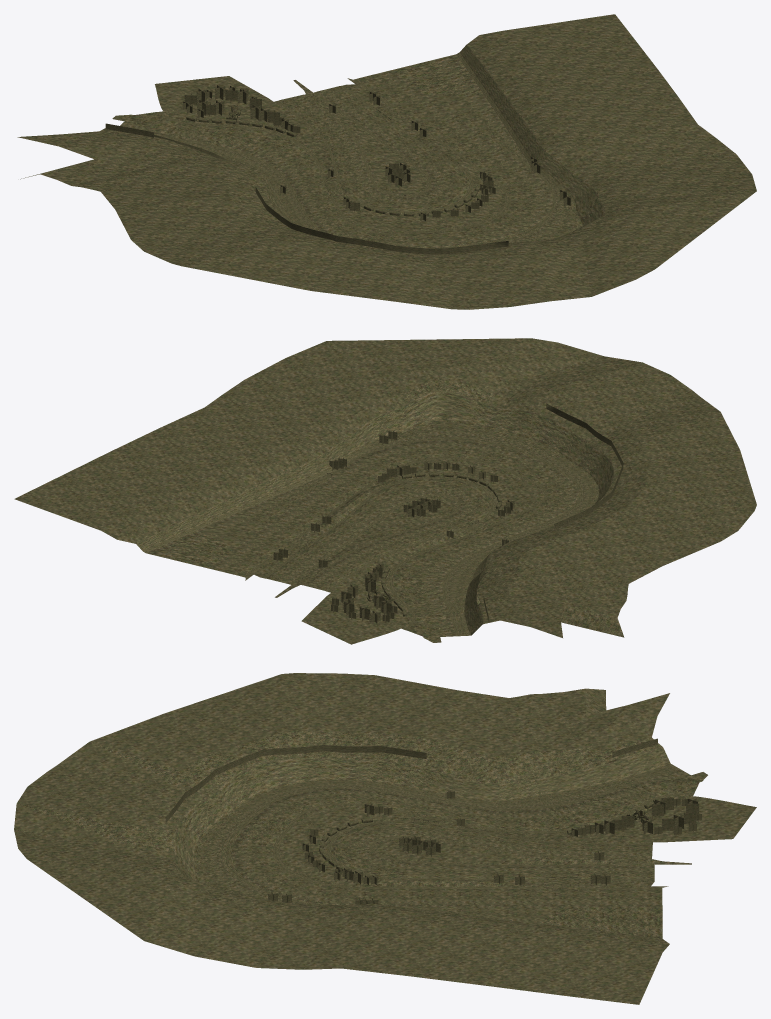
File: bihoku2.glb
The picture shows the model from 3 angles, top to bottom: view 1: azimuth 30°, elevation 25°; view 2: azimuth 150°, elevation 25°; view 3: azimuth 270°, elevation 25°; orthographic projection. The views are drawn at different scales.
Visible parts, largest first — view 1: bihoku2; view 2: bihoku2; view 3: bihoku2.
Part boxes in pixels (x1=…): bihoku2: x1=17, y1=14, x2=756, y2=309; bihoku2: x1=14, y1=338, x2=756, y2=644; bihoku2: x1=14, y1=673, x2=756, y2=1004.
Bounding box in the file's own units: 249 × 12.72 × 244.
Materials: 1 (1 with a texture image).
